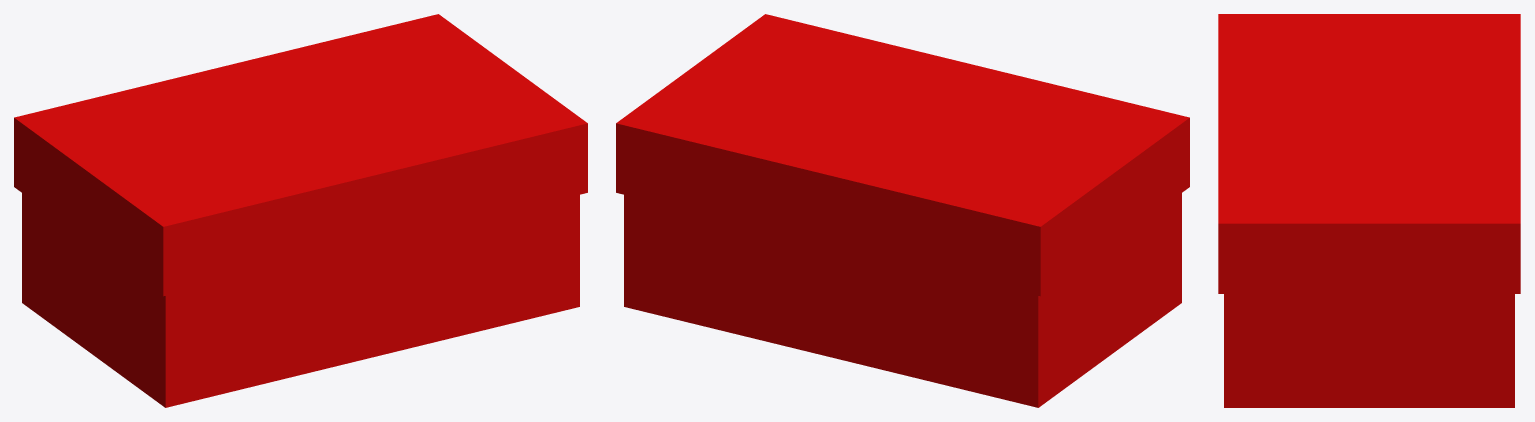
File: 2nike_shoe_box.glb
3 renders of one model, left to right at view 1: azimuth 30°, elevation 25°; view 2: azimuth 150°, elevation 25°; view 3: azimuth 270°, elevation 25°, orthographic.
Visible parts, largest first — view 1: Lid, Back, SideR; view 2: Lid, Front, SideR; view 3: Lid, SideL.
Part boxes in pixels (<box>): Lid: <box>14,14,587,296</box>; Back: <box>165,194,579,407</box>; SideR: <box>22,193,165,407</box>; Lid: <box>616,14,1189,296</box>; Front: <box>624,194,1038,407</box>; SideR: <box>1038,193,1181,407</box>; Lid: <box>1218,14,1520,293</box>; SideL: <box>1224,294,1514,407</box>.
Size of the model in its own units: 256 by 106 by 156.
